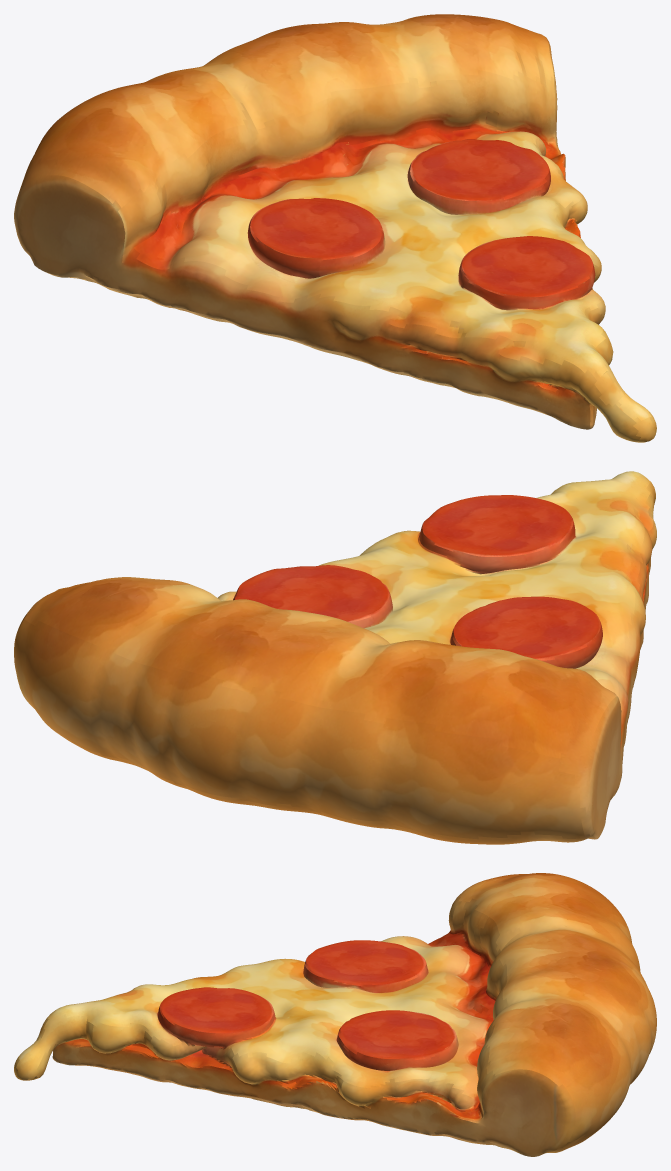
The model's file is Meshy_AI_Golden_Pepperoni_Slic_1122025404_texture.glb.
3 views of the same model, one above another, from view 1: azimuth 30°, elevation 25°; view 2: azimuth 150°, elevation 25°; view 3: azimuth 270°, elevation 25° (orthographic). The views are drawn at different scales.
Visible parts, largest first — view 1: Mesh0; view 2: Mesh0; view 3: Mesh0.
Boxes of the visible parts, box(x1,y1,x2,y2) form: Mesh0: box(14, 14, 656, 442); Mesh0: box(14, 471, 656, 844); Mesh0: box(14, 873, 656, 1156).
Size of the model in its own units: 1.47 by 0.403 by 1.9.
Materials: 1 (1 with a texture image).
